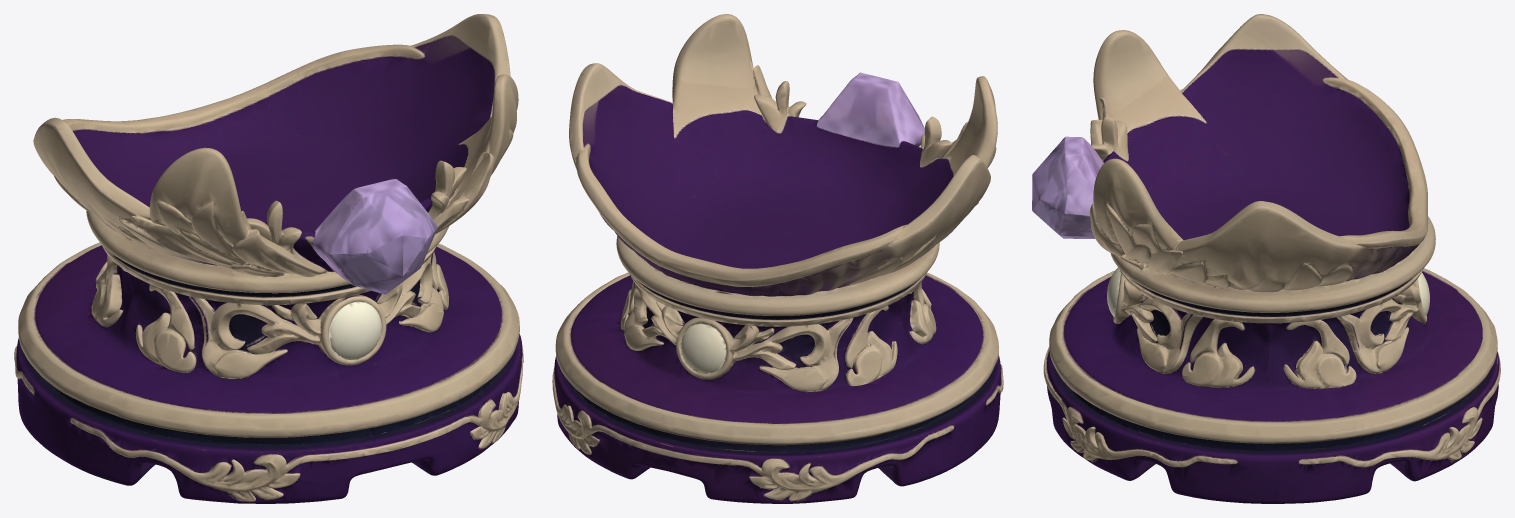
File: globe-pedestal.glb
3 views of the same model, side by side, from view 1: azimuth 30°, elevation 25°; view 2: azimuth 150°, elevation 25°; view 3: azimuth 270°, elevation 25° (orthographic). The views are drawn at different scales.
Bounding box in the file's own units: 1.86 × 1.41 × 1.9.
1 material, 1 textured.
